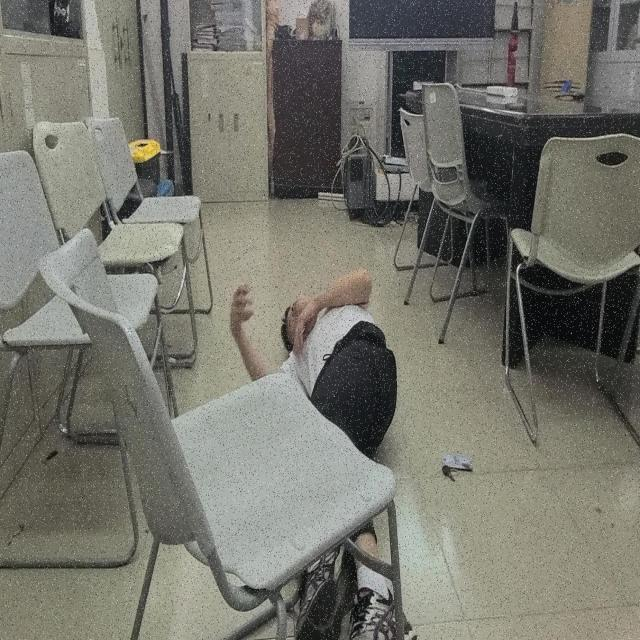fall: (228, 263, 420, 639)
